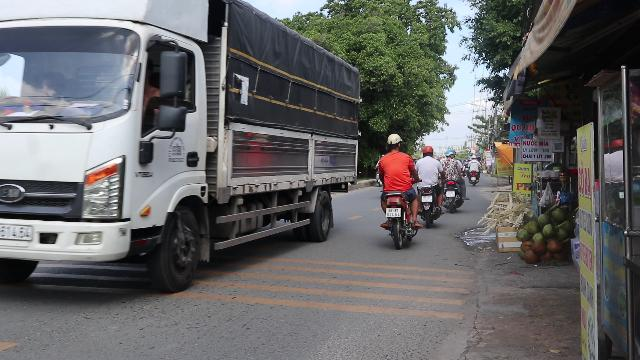helmet: (385, 132, 403, 152), (421, 144, 433, 156)
licenseplate: (384, 208, 400, 216), (422, 195, 432, 202)
motorcyclist: (374, 133, 420, 247), (414, 144, 444, 226)
